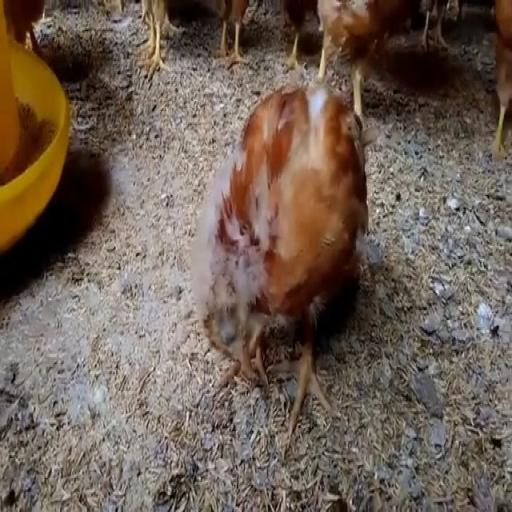disease: (215, 288, 256, 383)
